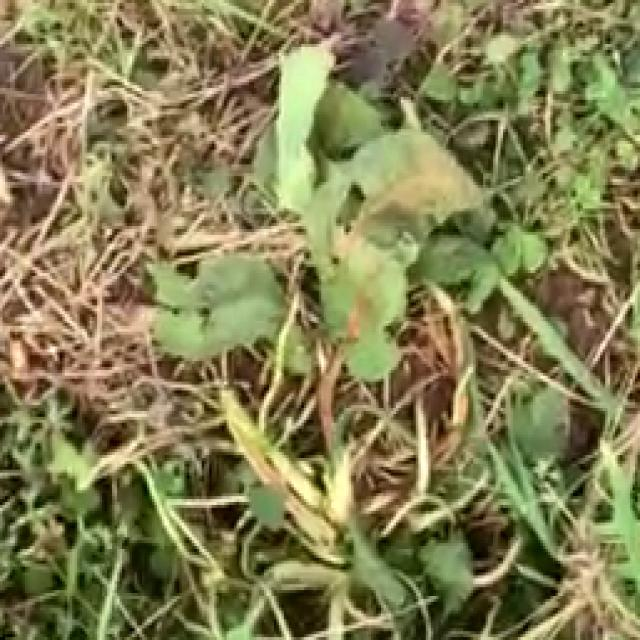organic waste: (124, 24, 500, 528)
